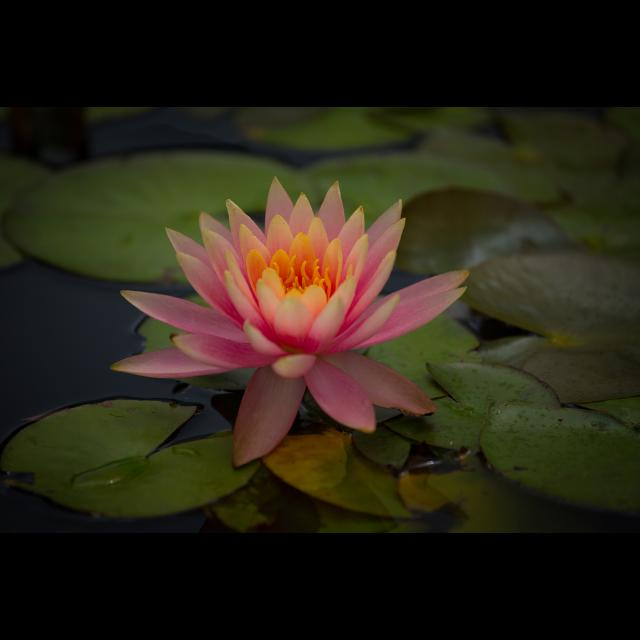Flower: (114, 188, 452, 440)
